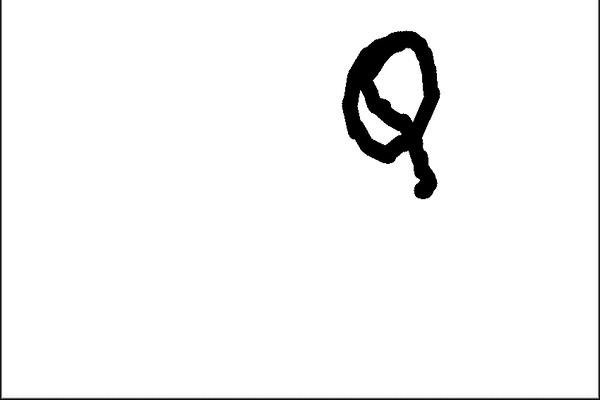Q: (327, 18, 451, 201)
